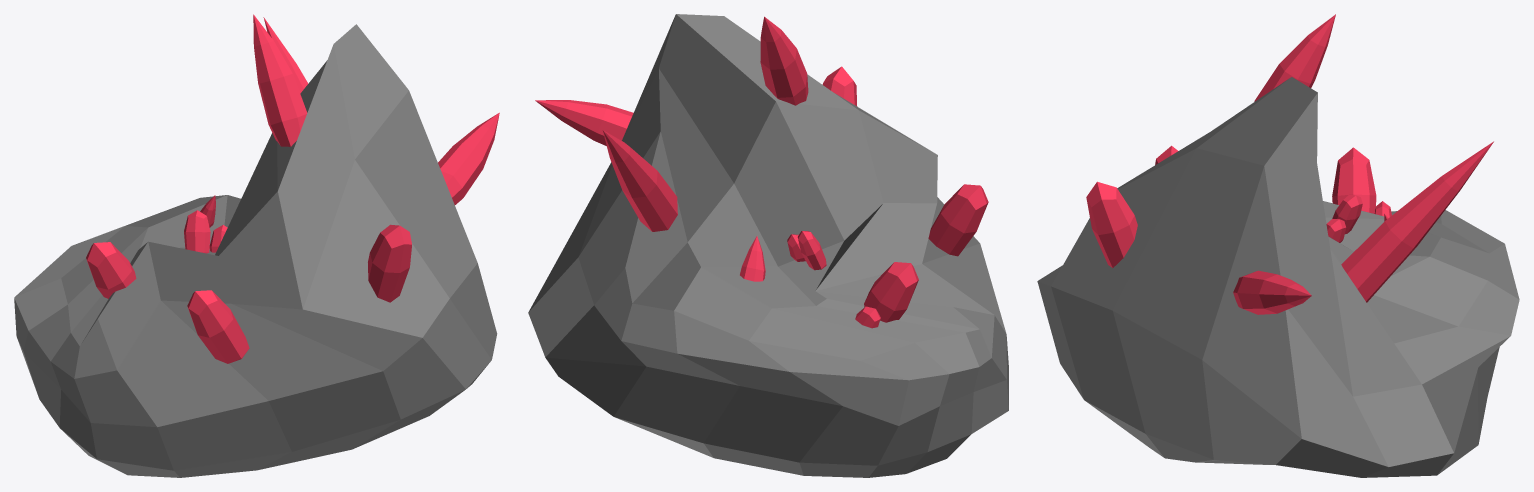
File: minerio magico.fbx
The picture shows the model from 3 angles, left to right: view 1: azimuth 30°, elevation 25°; view 2: azimuth 150°, elevation 25°; view 3: azimuth 270°, elevation 25°; orthographic projection. The views are drawn at different scales.
Parts seen in each view (by area): view 1: Cube, Cube.003; view 2: Cube, Cube.003; view 3: Cube, Cube.003.
Part boxes in pixels (x1,y1,x2,y2): Cube: [14, 24, 497, 477]; Cube.003: [86, 14, 499, 363]; Cube: [528, 14, 1008, 477]; Cube.003: [535, 16, 988, 328]; Cube: [1037, 77, 1519, 477]; Cube.003: [1086, 14, 1493, 314].
Bounding box in the file's own units: 254 × 226 × 224.
